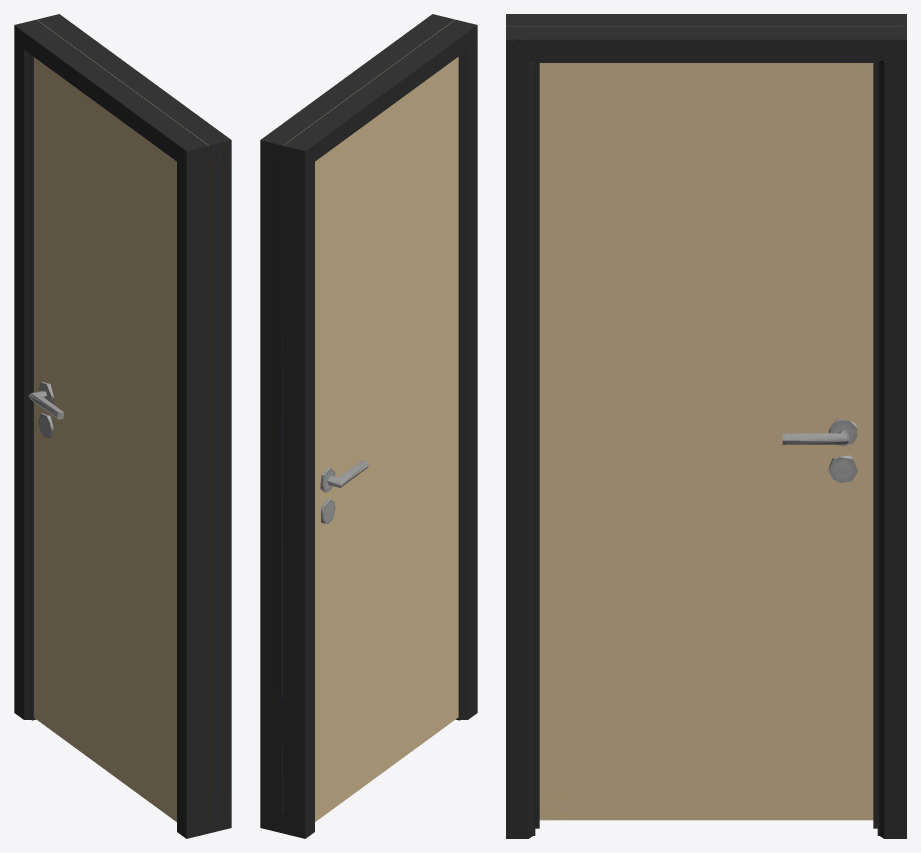
File: Door0011.obj
3 renders of one model, left to right at view 1: azimuth 30°, elevation 25°; view 2: azimuth 150°, elevation 25°; view 3: azimuth 270°, elevation 25°, orthographic. The views are drawn at different scales.
Size of the model in its own units: 0.181 by 2.12 by 0.964.
Materials: 1 (1 with a texture image).
